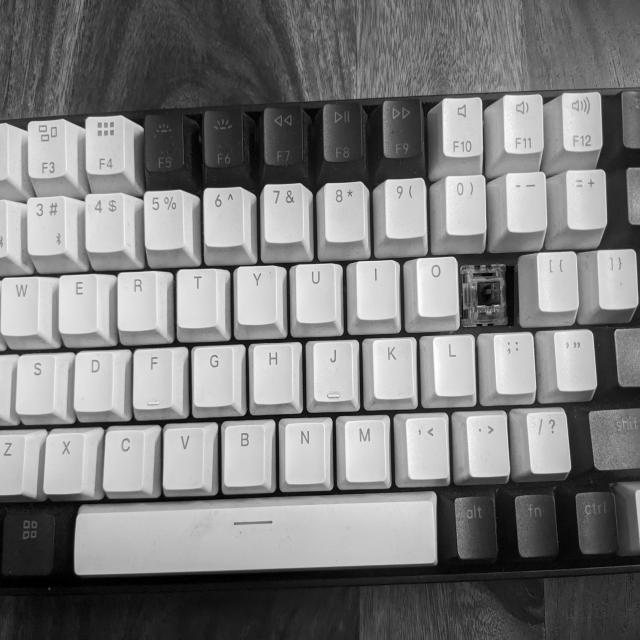C: (462, 266, 514, 326)
